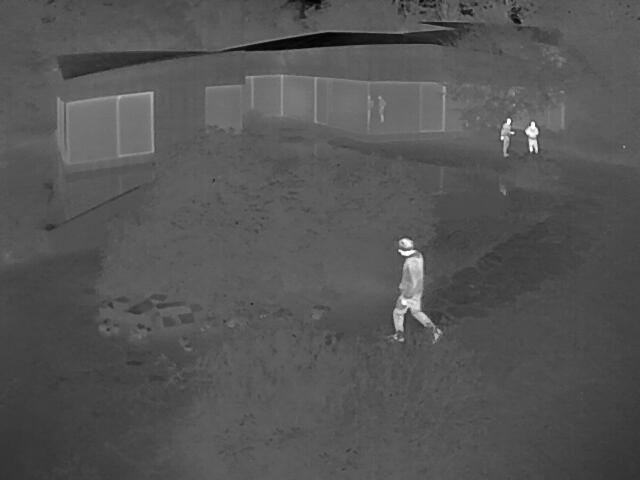person: (391, 237, 439, 343), (500, 116, 513, 157), (524, 120, 537, 154), (374, 94, 386, 121)
